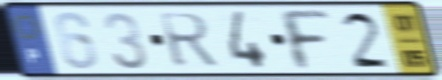2: (338, 10, 393, 70)
3: (102, 10, 149, 71)
4: (228, 9, 271, 72)
6: (52, 9, 100, 71)
F: (274, 7, 334, 73)
R: (155, 11, 222, 70)
